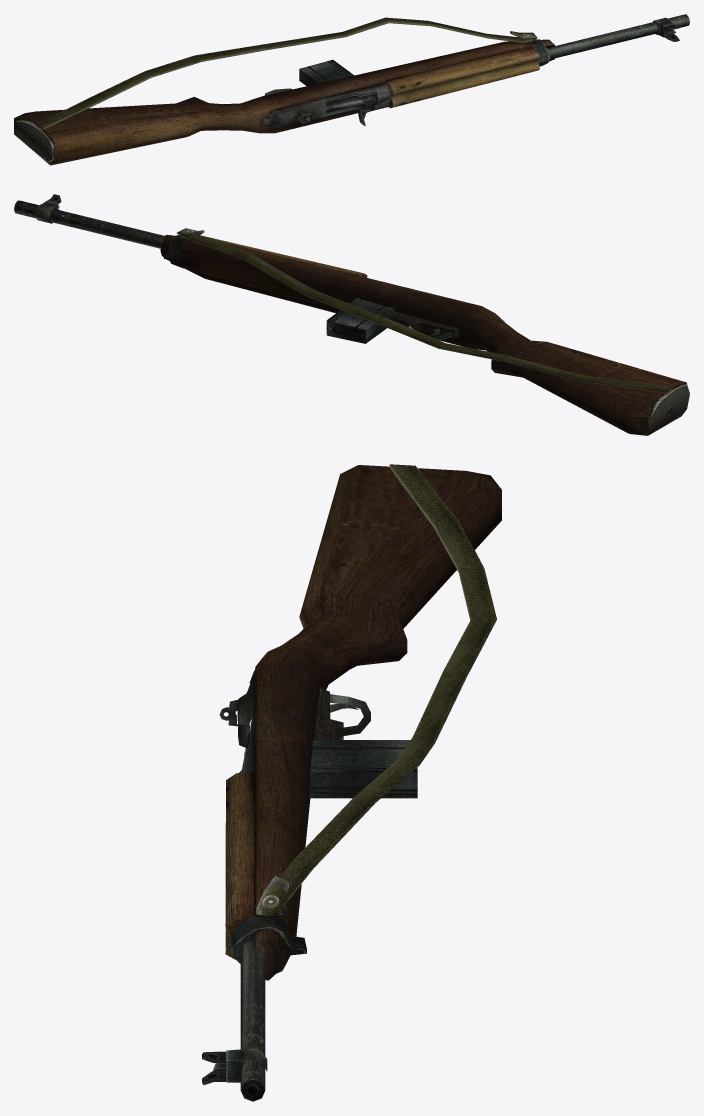
Rendered from weapon_m1carbine.glb.
3 views of the same model, one above another, from view 1: azimuth 30°, elevation 25°; view 2: azimuth 150°, elevation 25°; view 3: azimuth 270°, elevation 25° (orthographic). The views are drawn at different scales.
Bounding box in the file's own units: 40.14 × 3.89 × 8.49.
Materials: 1 (1 with a texture image).
